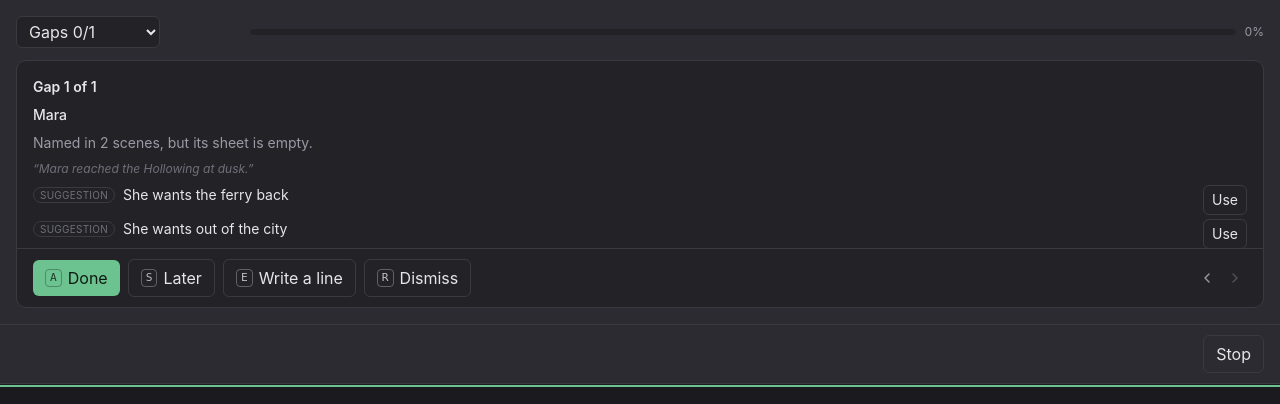
TodoReviewStrip (F-9.16) › labels suggestions, and picking one only fills the editable line
This screenshot has width=1280, height=404.
Expected: the text "Suggestion" is shown 2 times, top-left (33, 187), bottom-right (115, 203); top-left (33, 221), bottom-right (115, 237)
Click the button with aria-label "Use: She wants the ferry back" at (1225, 200), box top-left (1203, 185), bottom-right (1247, 215)
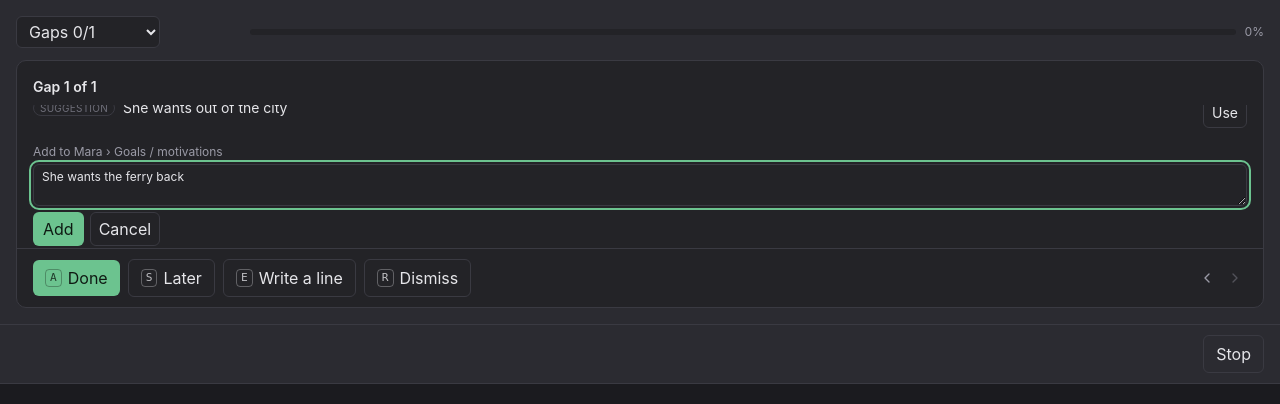
Expected: the text box with test id "todo-line" holds "She wants the ferry back"
Expected: the text "Add to Mara › Goals / motivations" is shown, top-left (33, 144), bottom-right (1247, 206)
// Typing in the line never decides the card.
Type " again" into the text box with test id "todo-line" at (640, 185), box top-left (33, 164), bottom-right (1247, 206)
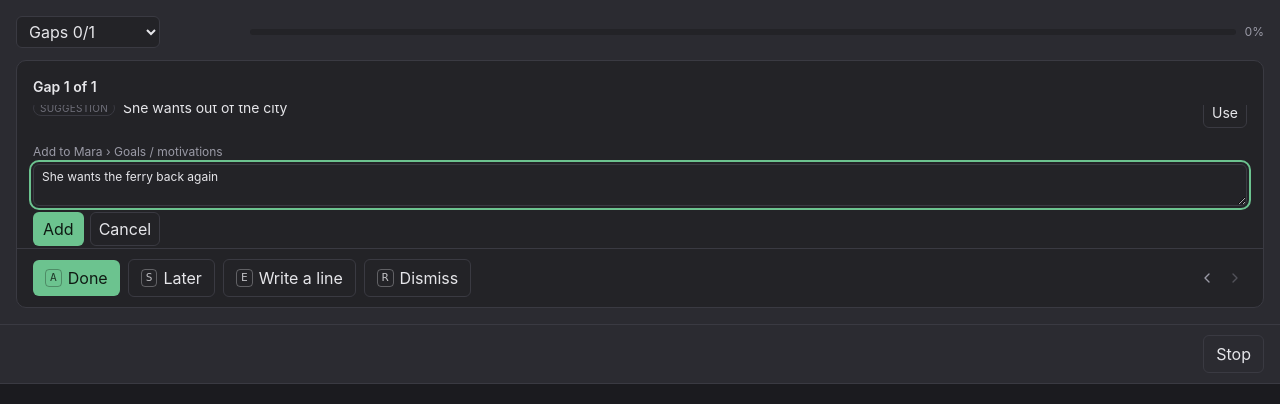
Expected: the text box with test id "todo-line" holds "She wants the ferry back again", top-left (33, 164), bottom-right (1247, 206)
Click the button "Cancel" at (125, 229), box top-left (90, 212), bottom-right (160, 246)
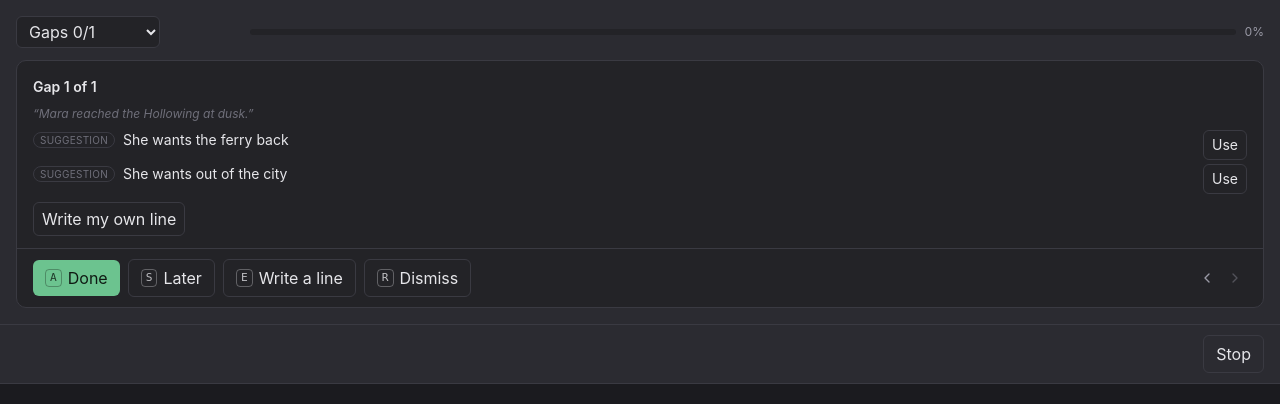
Expected: the element with test id "todo-composer" is gone
